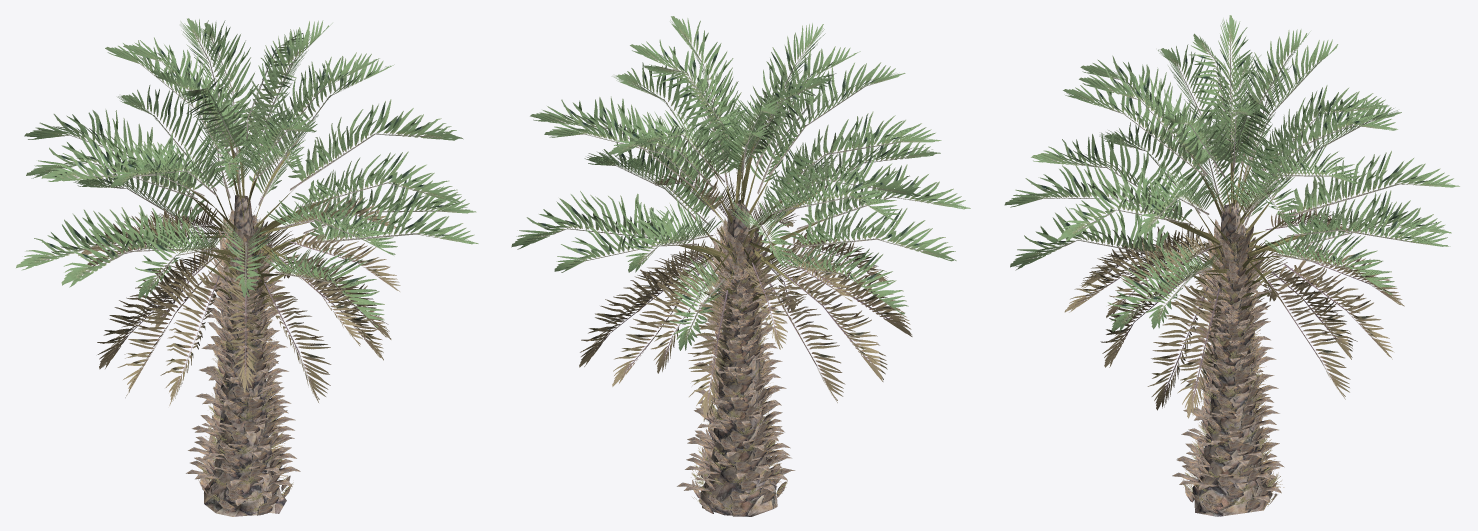
Rendered from palm-tall.glb.
3 views of the same model, side by side, from view 1: azimuth 30°, elevation 25°; view 2: azimuth 150°, elevation 25°; view 3: azimuth 270°, elevation 25° (orthographic). The views are drawn at different scales.
Visible parts, largest first — view 1: palm-tall; view 2: palm-tall; view 3: palm-tall.
Part boxes in pixels (x1=…): palm-tall: x1=16, y1=18, x2=478, y2=516; palm-tall: x1=511, y1=16, x2=970, y2=516; palm-tall: x1=1004, y1=15, x2=1459, y2=516.
Size of the model in its own units: 14.62 by 16.1 by 15.
Materials: 3 (3 with a texture image).
